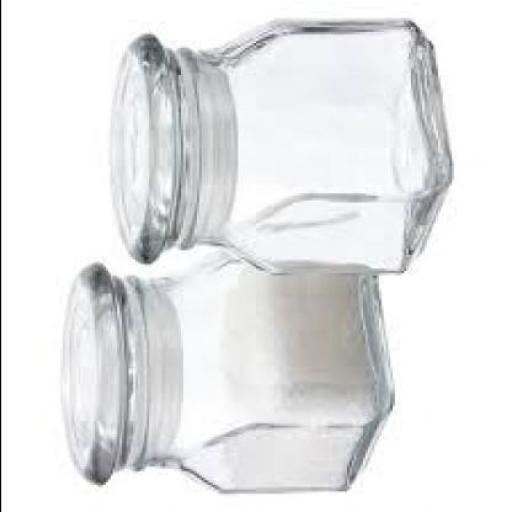glass: (107, 20, 451, 278), (59, 257, 391, 496)
